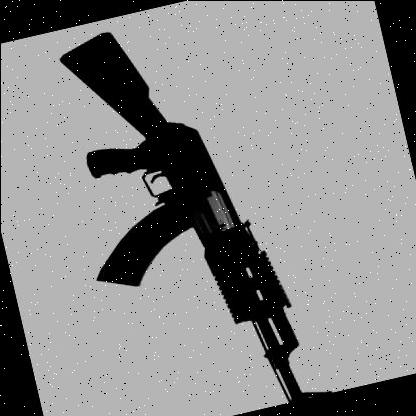rifle: (16, 2, 332, 416)
